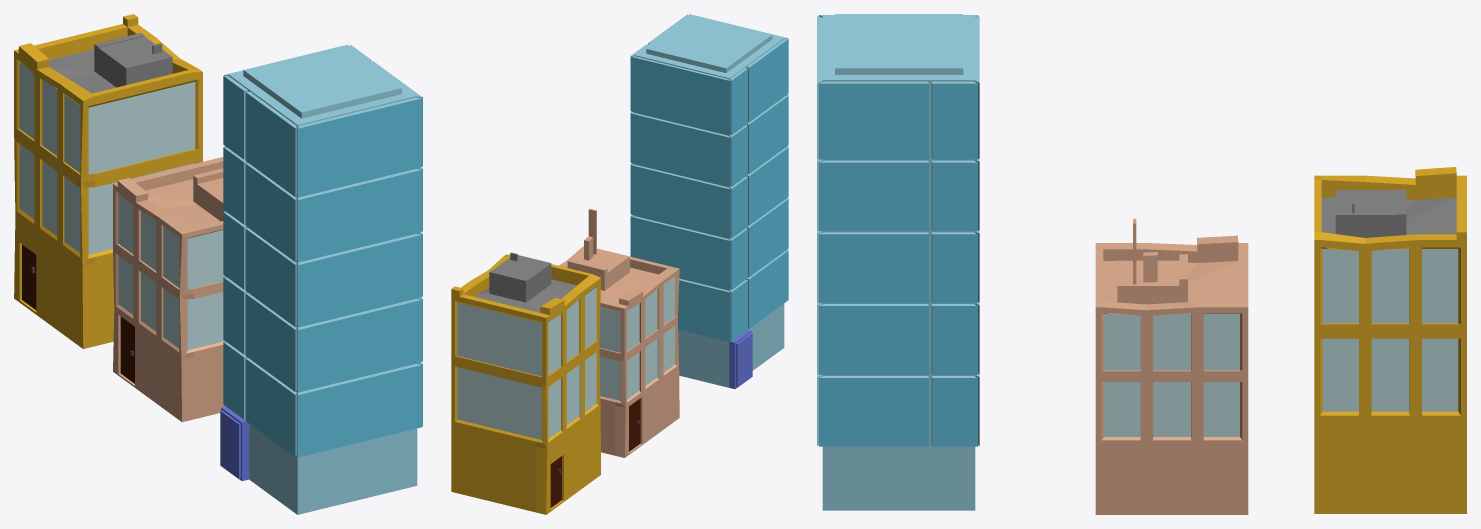
The picture shows the model from 3 angles, left to right: view 1: azimuth 30°, elevation 25°; view 2: azimuth 150°, elevation 25°; view 3: azimuth 270°, elevation 25°; orthographic projection. The views are drawn at different scales.
Visible parts, largest first — view 1: Skyscraper_2, Building_1.002, Building_1; view 2: Skyscraper_2, Building_1.002, Building_1; view 3: Skyscraper_2, Building_1.002, Building_1.
Boxes of the visible parts, bbox=[...] form: Skyscraper_2: bbox=[220, 44, 422, 514]; Building_1.002: bbox=[14, 14, 202, 348]; Building_1: bbox=[113, 157, 225, 422]; Skyscraper_2: bbox=[630, 14, 788, 389]; Building_1.002: bbox=[451, 252, 601, 514]; Building_1: bbox=[559, 208, 679, 457]; Skyscraper_2: bbox=[817, 14, 979, 510]; Building_1.002: bbox=[1314, 167, 1466, 513]; Building_1: bbox=[1095, 218, 1248, 514].
Bounding box in the file's own units: 4.65 × 12.82 × 17.26.
